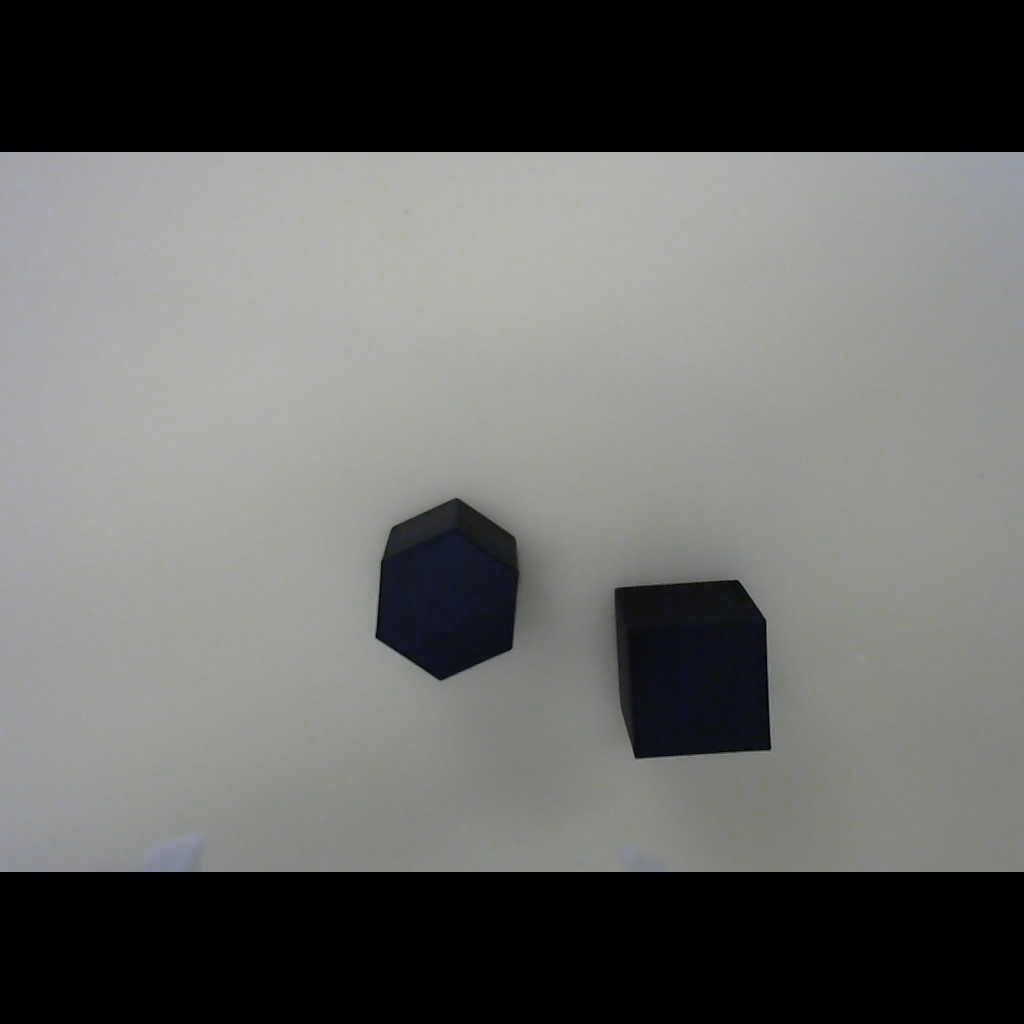hexagon: (358, 484, 536, 703)
square: (585, 551, 797, 782)
